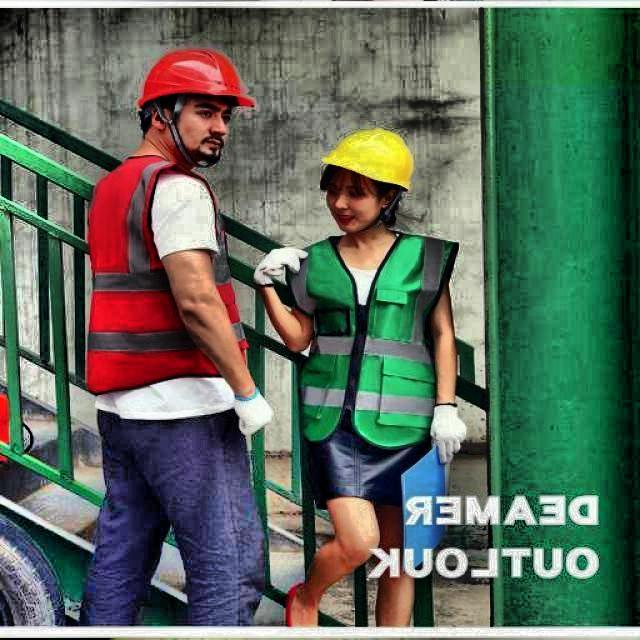safety_jacket: (302, 241, 451, 436), (88, 185, 210, 384)
